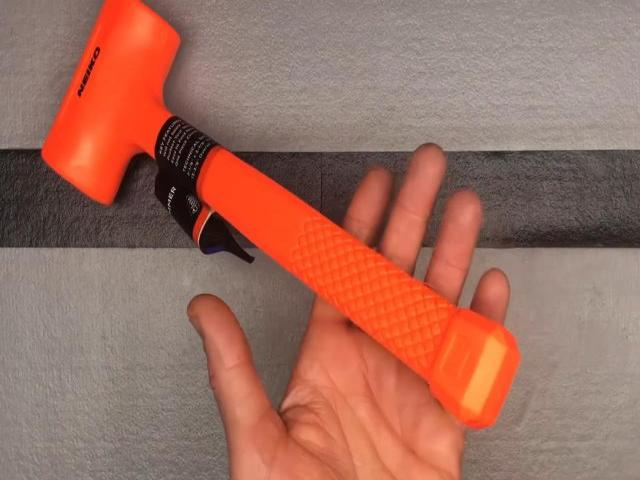hammer: (39, 0, 520, 432)
